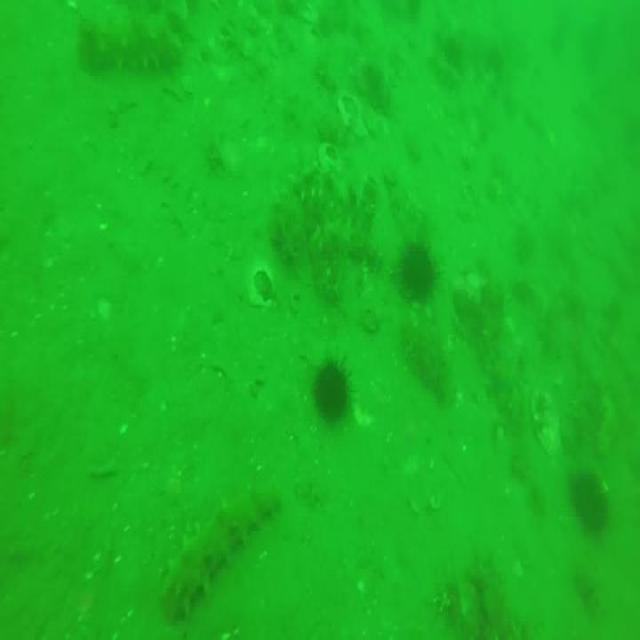echinus: (572, 466, 615, 536), (311, 359, 356, 425), (399, 243, 443, 305)
holothurian: (157, 472, 281, 640), (68, 14, 180, 78), (282, 160, 348, 229), (323, 223, 381, 270)
scallop: (248, 252, 275, 304), (337, 86, 363, 138), (535, 388, 558, 438), (218, 139, 244, 174), (315, 147, 341, 175)
